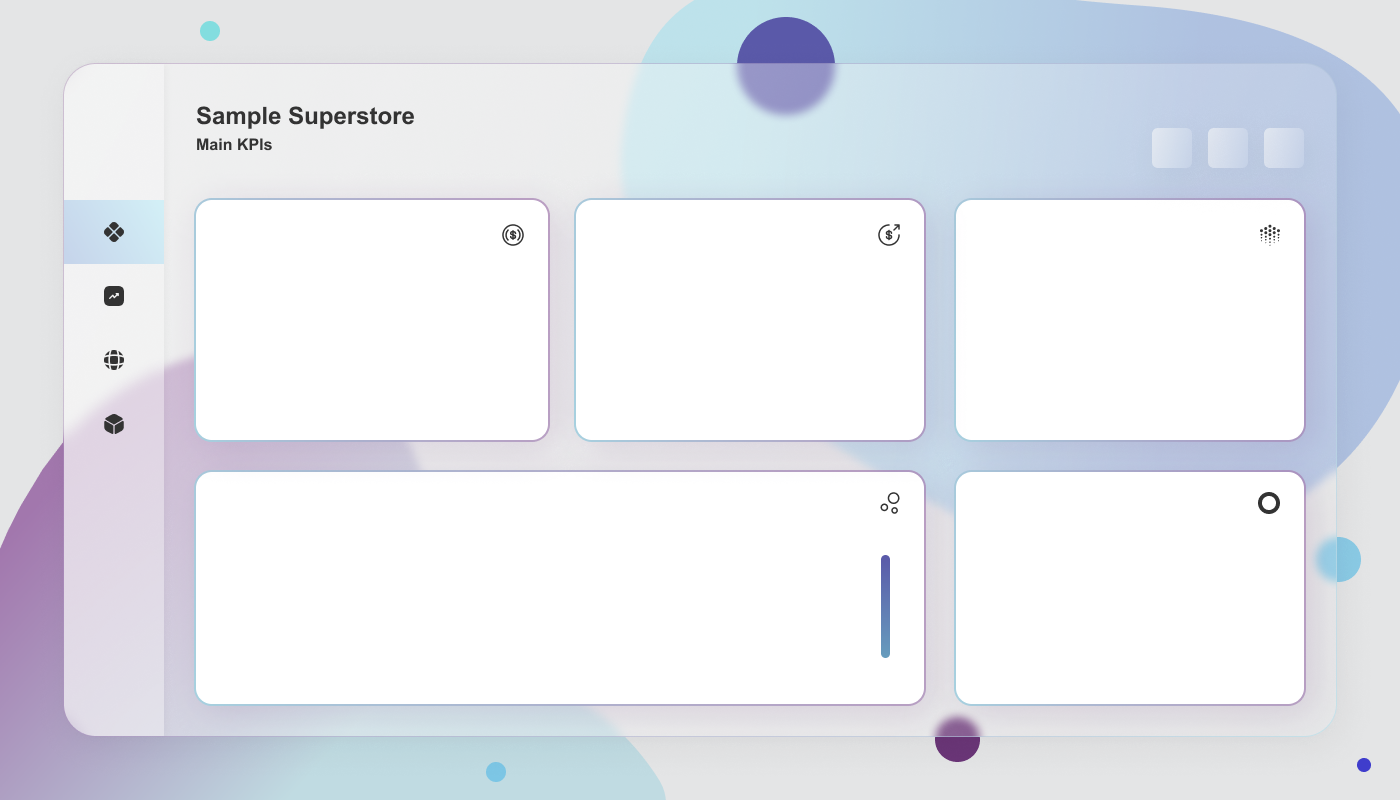

The dashboard page shown, as its layout file describes it:
{"tool":"tableau","page":{"name":"Main KPIs","canvas":[1400,800],"ordinal":0},"visuals":[{"type":"image","param":"Image/Main KPIs.png","box":[0,0,1400,800]},{"type":"dashboard-object","box":[1160,136,24,24]},{"type":"worksheet","title":"Reset Filters","mark":"Shape","cols":["Calculation_707909609538879489"],"box":[1216,136,24,24]},{"type":"dashboard-object","box":[1272,136,24,24]},{"type":"filter","title":"Sales","param":"[federated.0edz2lz09zrftf18khcru1ptet20].[none:Category:nk]","box":[1120,181,174,54]},{"type":"dashboard-object","box":[64,200,100,64]},{"type":"worksheet","title":"YTD Sales","mark":"Text","box":[217,219,144,70]},{"type":"worksheet","title":"YTD Profit","mark":"Text","box":[597,219,144,70]},{"type":"worksheet","title":"YTD Quantity","mark":"Text","box":[977,219,170,70]},{"type":"filter","title":"Sales","param":"[federated.0edz2lz09zrftf18khcru1ptet20].[none:Sub-Category:nk]","box":[1120,235,174,54]},{"type":"text","box":[356,247,56,30]},{"type":"text","box":[732,247,56,30]},{"type":"text","box":[1101,247,56,30]},{"type":"worksheet","title":"YOY Sales","mark":"Automatic","rows":["Order Date"],"box":[296,253,76,26]},{"type":"worksheet","title":"YOY Profit","mark":"Automatic","rows":["Order Date"],"box":[671,253,76,26]},{"type":"worksheet","title":"YOY Quantity","mark":"Automatic","rows":["Order Date"],"box":[1038,253,76,26]},{"type":"dashboard-object","box":[64,264,100,64]},{"type":"filter","title":"Sales","param":"[federated.0edz2lz09zrftf18khcru1ptet20].[none:State/Province:nk]","box":[1120,289,174,54]},{"type":"worksheet","title":"Sales","mark":"Line","cols":["Order Date"],"box":[219,321,303,96]},{"type":"worksheet","title":"Profit","mark":"Line","cols":["Order Date"],"box":[598,321,303,96]},{"type":"worksheet","title":"Quantity","mark":"Line","cols":["Order Date"],"box":[979,321,303,96]},{"type":"dashboard-object","box":[64,328,100,64]},{"type":"filter","title":"Sales","param":"[federated.0edz2lz09zrftf18khcru1ptet20].[none:City:nk]","box":[1120,343,174,54]},{"type":"dashboard-object","box":[64,392,100,64]},{"type":"filter","title":"Sales","param":"[federated.0edz2lz09zrftf18khcru1ptet20].[none:Segment:nk]","box":[1120,397,174,54]},{"type":"blank","box":[244,398,254,27]},{"type":"blank","box":[624,398,254,27]},{"type":"blank","box":[1005,402,254,27]},{"type":"dashboard-object","box":[64,456,100,64]},{"type":"worksheet","title":"Scatter","mark":"Automatic","rows":["Total Sales (copy)_1713056751226064918"],"cols":["Calculation_1713056751028776960"],"box":[215,486,618,204]},{"type":"worksheet","title":"Segment Sales","mark":"Pie","cols":["Calculation_1713056751349825580","Calculation_1713056751349841966"],"box":[981,493,297,190]},{"type":"text","box":[873,530,46,30]},{"type":"worksheet","title":"YTD Sales (2)","mark":"Text","box":[1101,589,88,51]},{"type":"text","box":[871,653,46,30]}]}

Visuals, with their boxes in screenshot pixels (x1, y1, x2, y2), scaled from the page's 1400x800 canvas onto the 1400x800 screenshot:
image: 0 0 1399 799
dashboard-object: 1160 136 1184 160
"Reset Filters" worksheet (Shape marks): 1216 136 1240 160
dashboard-object: 1272 136 1296 160
"Sales" filter: 1120 181 1294 235
dashboard-object: 64 200 164 264
"YTD Sales" worksheet (Text marks): 217 219 361 289
"YTD Profit" worksheet (Text marks): 597 219 741 289
"YTD Quantity" worksheet (Text marks): 977 219 1147 289
"Sales" filter: 1120 235 1294 289
text: 356 247 412 277
text: 732 247 788 277
text: 1101 247 1157 277
"YOY Sales" worksheet: 296 253 372 279
"YOY Profit" worksheet: 671 253 747 279
"YOY Quantity" worksheet: 1038 253 1114 279
dashboard-object: 64 264 164 328
"Sales" filter: 1120 289 1294 343
"Sales" worksheet (Line marks): 219 321 522 417
"Profit" worksheet (Line marks): 598 321 901 417
"Quantity" worksheet (Line marks): 979 321 1282 417
dashboard-object: 64 328 164 392
"Sales" filter: 1120 343 1294 397
dashboard-object: 64 392 164 456
"Sales" filter: 1120 397 1294 451
blank: 244 398 498 425
blank: 624 398 878 425
blank: 1005 402 1259 429
dashboard-object: 64 456 164 520
"Scatter" worksheet: 215 486 833 690
"Segment Sales" worksheet (Pie marks): 981 493 1278 683
text: 873 530 919 560
"YTD Sales (2)" worksheet (Text marks): 1101 589 1189 640
text: 871 653 917 683
